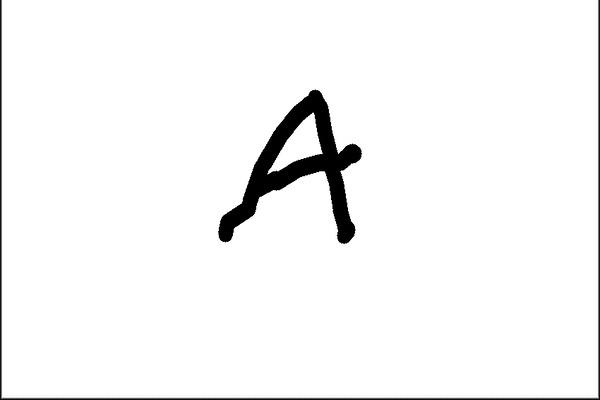A: (212, 82, 364, 250)
